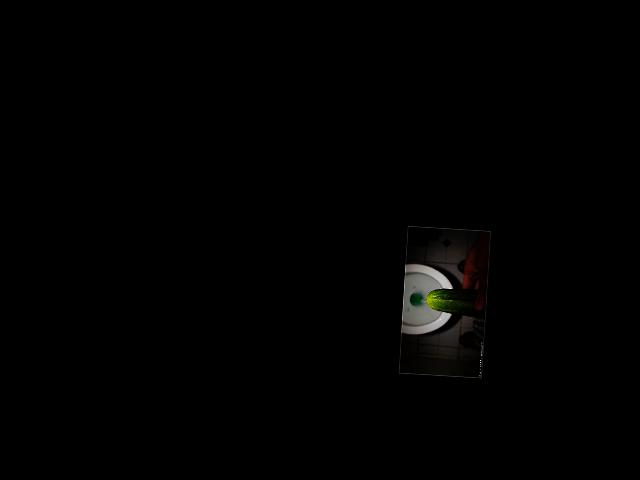cucumber: (426, 287, 487, 318)
